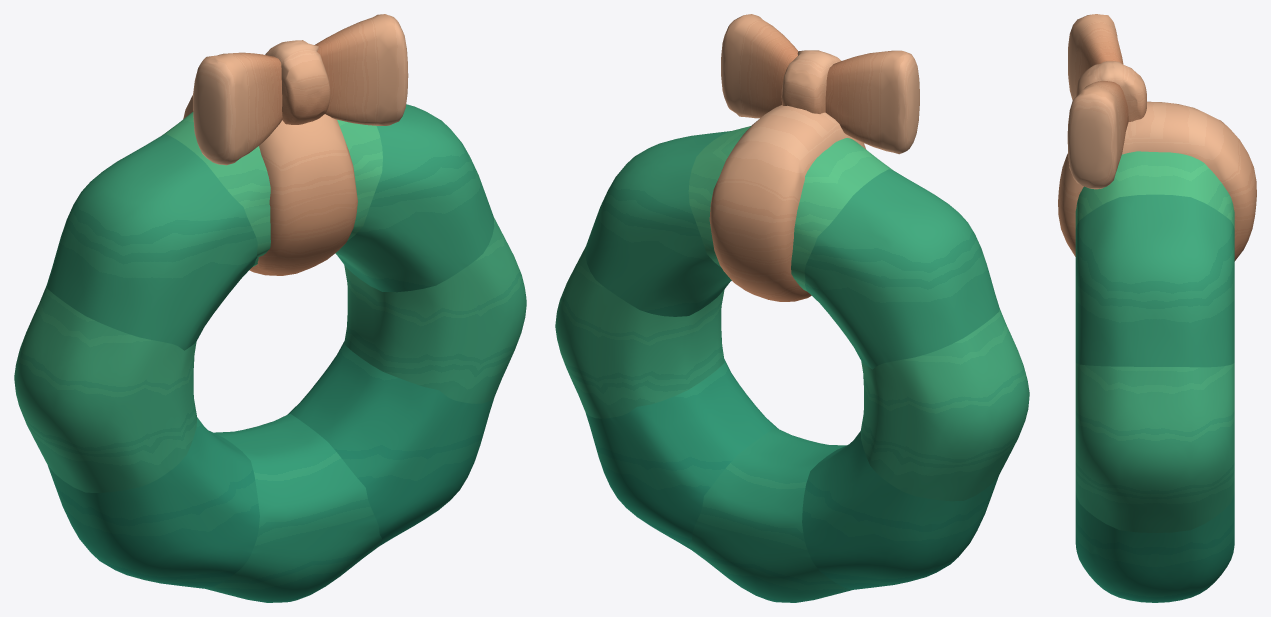
The picture shows the model from 3 angles, left to right: view 1: azimuth 30°, elevation 25°; view 2: azimuth 150°, elevation 25°; view 3: azimuth 270°, elevation 25°; orthographic projection. The views are drawn at different scales.
Size of the model in its own units: 0.8521 by 0.9782 by 0.3281.
Materials: 1 (1 with a texture image).
